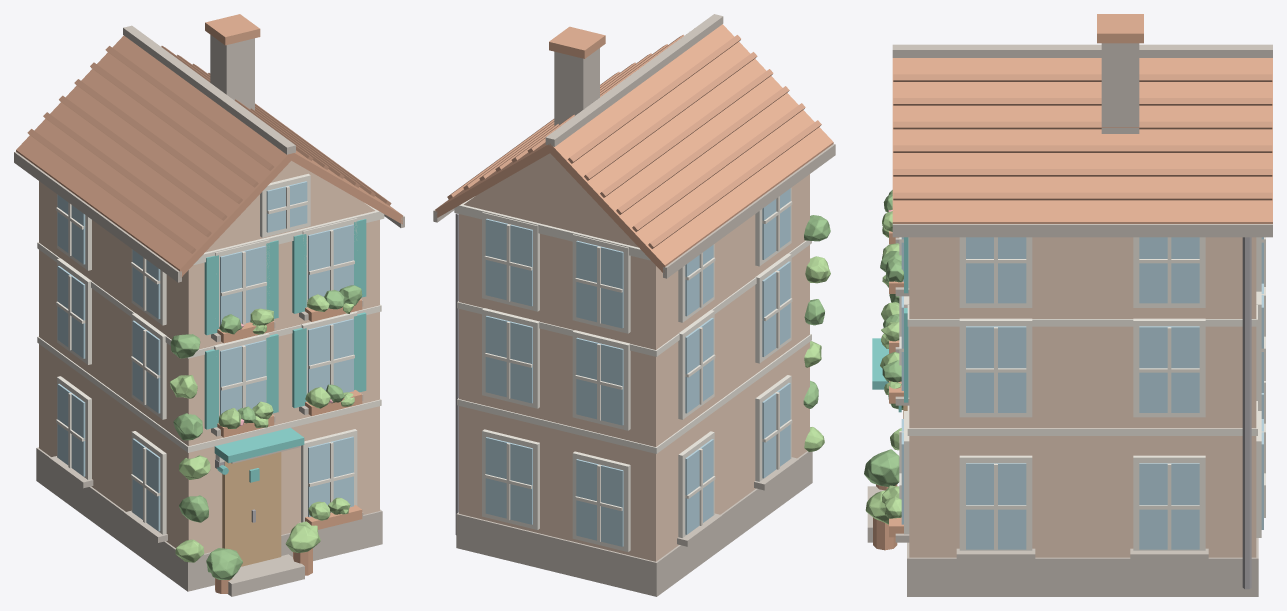
The model's file is Building_Townhouse_B.fbx.
3 views of the same model, side by side, from view 1: azimuth 30°, elevation 25°; view 2: azimuth 150°, elevation 25°; view 3: azimuth 270°, elevation 25° (orthographic). The views are drawn at different scales.
Parts seen in each view (by area): view 1: Building_Townhouse_B, Building_Townhouse_B_Veg; view 2: Building_Townhouse_B, Building_Townhouse_B_Veg; view 3: Building_Townhouse_B, Building_Townhouse_B_Veg.
Part boxes in pixels (x1,y1,x2,y2): Building_Townhouse_B: [14, 14, 404, 596]; Building_Townhouse_B_Veg: [169, 285, 362, 593]; Building_Townhouse_B: [433, 14, 835, 596]; Building_Townhouse_B_Veg: [803, 215, 830, 451]; Building_Townhouse_B: [867, 14, 1272, 596]; Building_Townhouse_B_Veg: [864, 190, 903, 550].
Size of the model in its own units: 4.03 by 7.9 by 5.42.
